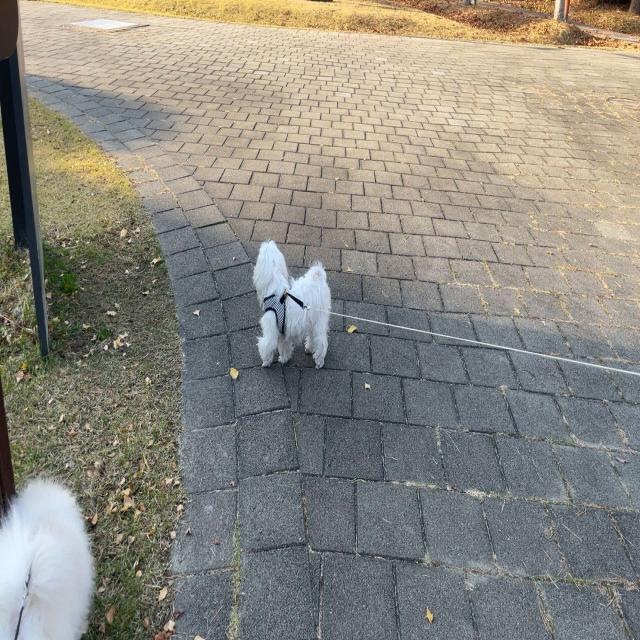Dog: (252, 237, 332, 371)
